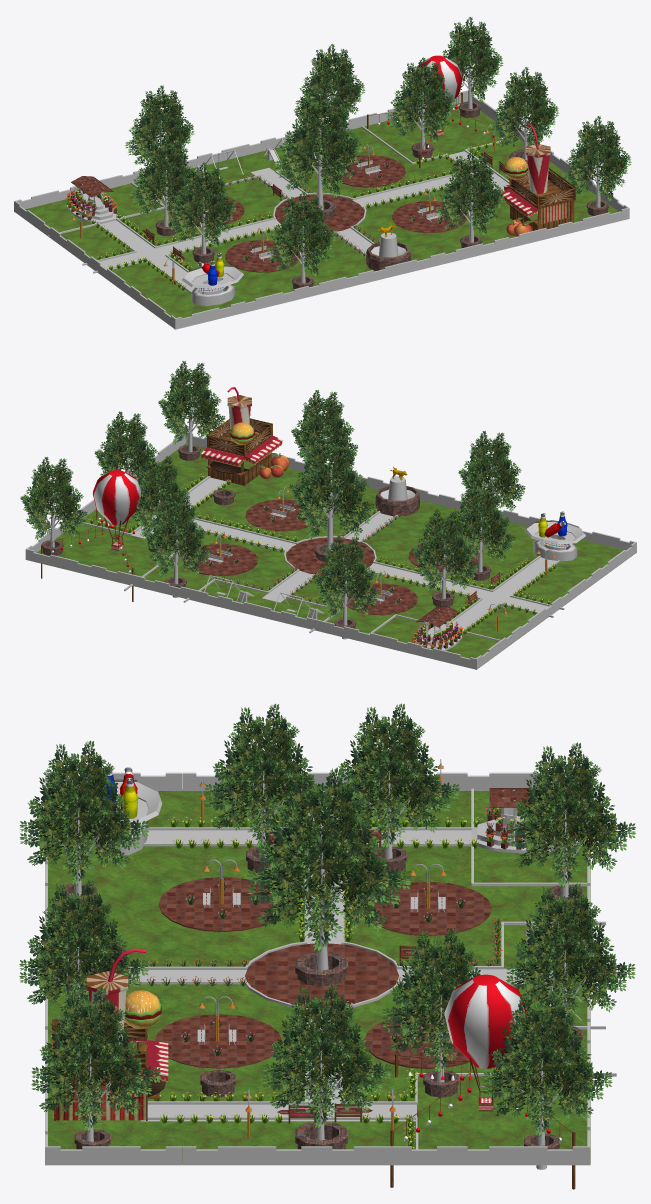
File: park set 6.fbx
3 views of the same model, one above another, from view 1: azimuth 30°, elevation 25°; view 2: azimuth 150°, elevation 25°; view 3: azimuth 270°, elevation 25° (orthographic). The views are drawn at different scales.
Visible parts, largest first — view 1: polySurface3642, polySurface3350, polySurface3357, pCylinder278, polySurface3370, polySurface3355, pPlane321, pTorus120, pCube601, pCube602, polySurface3643, pSphere40 (+3 smaller); view 2: polySurface3642, polySurface3350, polySurface3357, pCylinder278, polySurface3370, polySurface3355, pPlane321, pCube601, pTorus120, pSphere40, pCube602, polySurface3643 (+3 smaller); view 3: polySurface3642, polySurface3350, pCylinder278, polySurface3357, polySurface3370, pTorus120, pPlane321, pSphere40, pCube601, polySurface3355, polySurface3643, pCube602 (+3 smaller).
Part boxes in pixels (x1,y1,x2,y2): polySurface3642: (124,17,631,277); polySurface3350: (21,101,618,321); polySurface3357: (14,90,629,329); pCylinder278: (67,155,466,272); polySurface3370: (87,138,537,305); polySurface3355: (500,123,575,236); pPlane321: (66,136,518,290); pTorus120: (155,101,608,289); pCube601: (48,125,509,292); pCube602: (67,136,441,294); polySurface3643: (149,52,602,283); pSphere40: (367,55,514,168); polySurface3642: (20,361,525,617); polySurface3350: (37,443,635,665); polySurface3357: (25,432,636,669); pCylinder278: (183,499,482,649); polySurface3370: (131,477,577,629); polySurface3355: (201,387,289,485); pPlane321: (82,474,556,649); pCube601: (78,476,564,644); pTorus120: (42,445,500,628); pSphere40: (41,470,149,601); pCube602: (204,504,585,650); polySurface3643: (46,394,501,639); polySurface3642: (19,703,635,1137); polySurface3350: (48,790,590,1164); pCylinder278: (154,788,580,1068); polySurface3357: (45,772,590,1165); polySurface3370: (93,791,552,1121); pTorus120: (55,846,583,1149); pPlane321: (132,807,580,1148); pSphere40: (390,974,578,1189); pCube601: (128,788,616,1149); polySurface3355: (51,948,168,1120); polySurface3643: (57,760,587,1169); pCube602: (87,779,581,1044).
Bounding box in the file's own units: 580 × 162 × 387.
